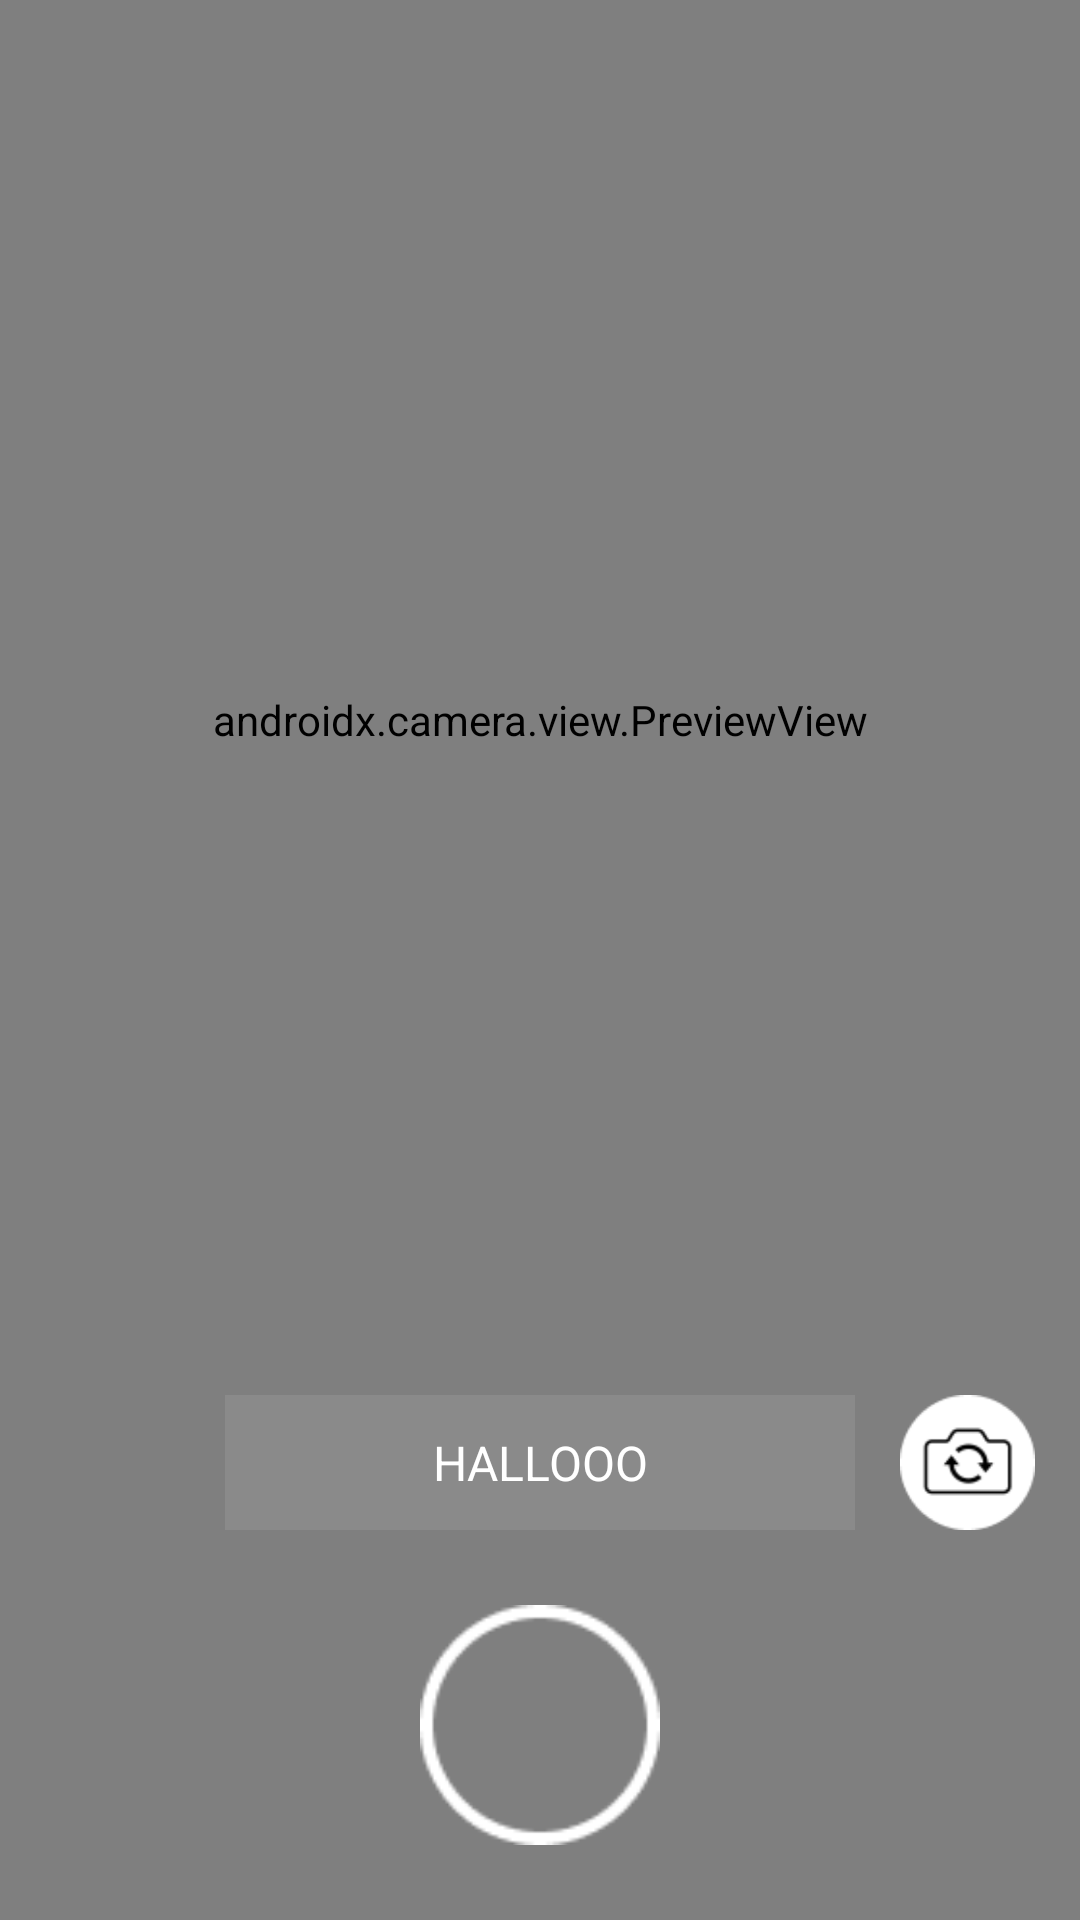

Locate icon controls on the screen. Image size 1080x1920, boxes as (x1, y1, x2, y2).
change camera: (900, 1395, 1035, 1530)
